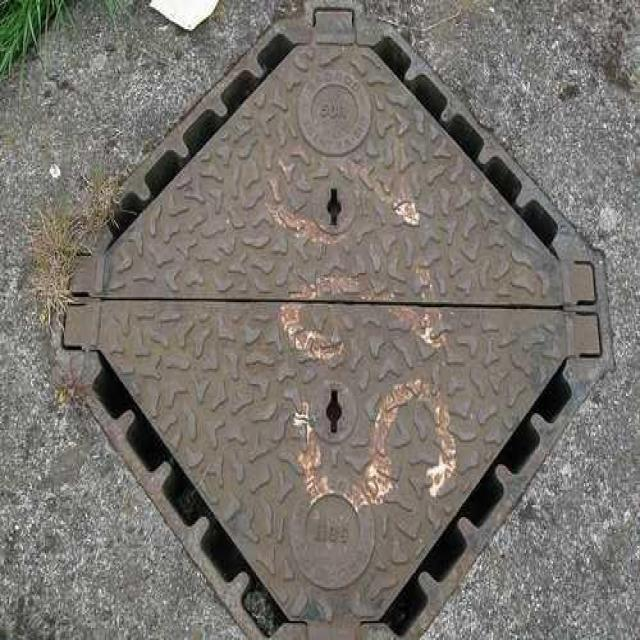manhole: (64, 7, 613, 636)
